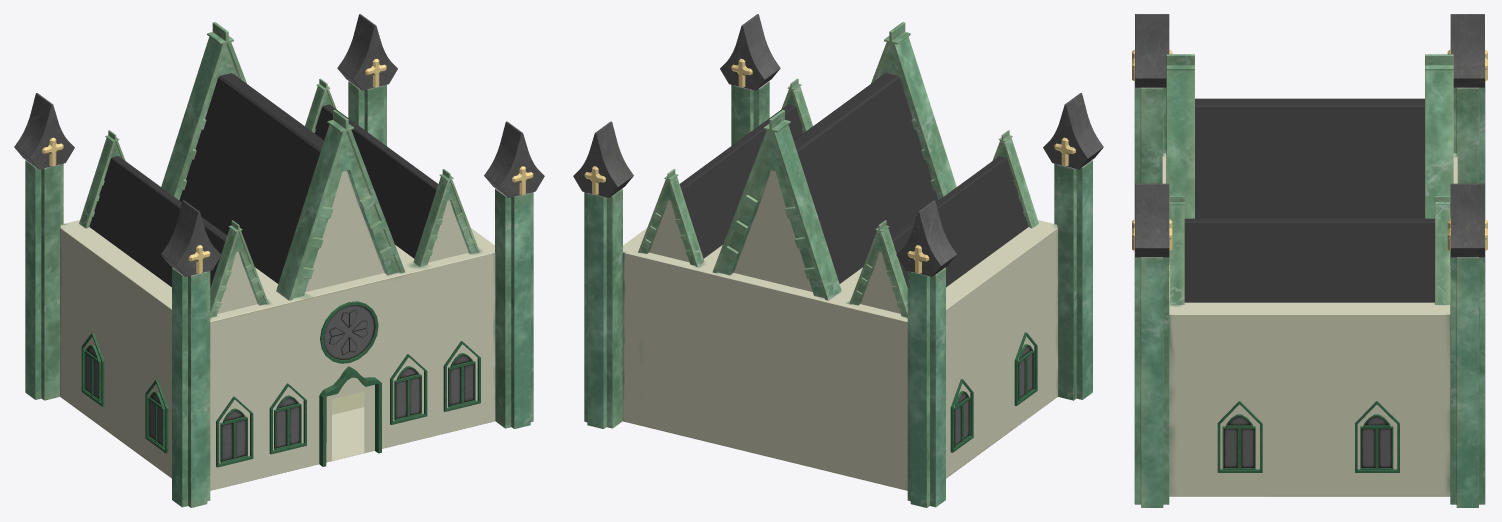
Rendered from house.fbx.
3 views of the same model, side by side, from view 1: azimuth 30°, elevation 25°; view 2: azimuth 150°, elevation 25°; view 3: azimuth 270°, elevation 25° (orthographic). The views are drawn at different scales.
Parts seen in each view (by area): view 1: polySurface3; view 2: polySurface3; view 3: polySurface3.
Boxes of the visible parts, <box> form: polySurface3: <box>14,14,544,507</box>; polySurface3: <box>573,14,1103,507</box>; polySurface3: <box>1132,14,1487,507</box>.
Size of the model in its own units: 10.16 by 8.86 by 7.9.
